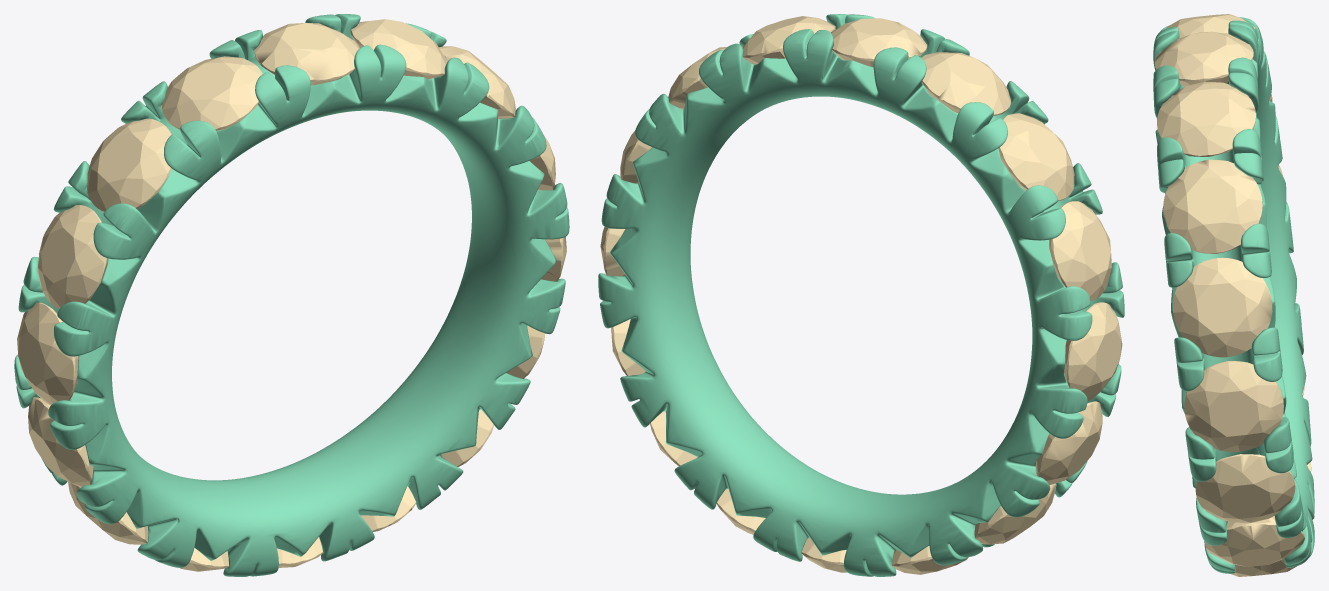
3 renders of one model, left to right at view 1: azimuth 30°, elevation 25°; view 2: azimuth 150°, elevation 25°; view 3: azimuth 270°, elevation 25°, orthographic. The views are drawn at different scales.
Parts seen in each view (by area): view 1: Metal02, Diamond_Round.003, Diamond_Round.002, Diamond_Round.004, Diamond_Round.001, Diamond_Round.005, Diamond_Round, Diamond_Round.006, Diamond_Round.014, Diamond_Round.007, Diamond_Round.015, Diamond_Round.010 (+2 smaller); view 2: Metal02, Diamond_Round.003, Diamond_Round.004, Diamond_Round.002, Diamond_Round.005, Diamond_Round.001, Diamond_Round.006, Diamond_Round, Diamond_Round.007, Diamond_Round.014, Diamond_Round.008, Diamond_Round.015 (+5 smaller); view 3: Metal02, Diamond_Round.013, Diamond_Round.014, Diamond_Round.012, Diamond_Round, Diamond_Round.011, Diamond_Round.001, Diamond_Round.015, Diamond_Round.002, Diamond_Round.010.
Part boxes in pixels (x1=…): Metal02: x1=14, y1=14, x2=569, y2=576; Diamond_Round.003: x1=87, y1=118, x2=171, y2=212; Diamond_Round.002: x1=162, y1=56, x2=262, y2=130; Diamond_Round.004: x1=38, y1=205, x2=107, y2=309; Diamond_Round.001: x1=254, y1=23, x2=359, y2=85; Diamond_Round.005: x1=17, y1=302, x2=78, y2=405; Diamond_Round: x1=350, y1=19, x2=447, y2=79; Diamond_Round.006: x1=28, y1=397, x2=93, y2=487; Diamond_Round.014: x1=439, y1=46, x2=515, y2=118; Diamond_Round.007: x1=68, y1=481, x2=148, y2=544; Diamond_Round.015: x1=441, y1=409, x2=494, y2=466; Diamond_Round.010: x1=360, y1=486, x2=416, y2=531; Metal02: x1=598, y1=14, x2=1124, y2=576; Diamond_Round.003: x1=998, y1=113, x2=1074, y2=200; Diamond_Round.004: x1=1049, y1=201, x2=1111, y2=300; Diamond_Round.002: x1=922, y1=52, x2=1010, y2=115; Diamond_Round.005: x1=1064, y1=302, x2=1122, y2=400; Diamond_Round.001: x1=831, y1=18, x2=927, y2=67; Diamond_Round.006: x1=1036, y1=401, x2=1102, y2=485; Diamond_Round: x1=742, y1=16, x2=835, y2=64; Diamond_Round.007: x1=974, y1=483, x2=1056, y2=544; Diamond_Round.014: x1=668, y1=47, x2=742, y2=109; Diamond_Round.008: x1=892, y1=529, x2=974, y2=574; Diamond_Round.015: x1=650, y1=411, x2=697, y2=466; Metal02: x1=1153, y1=17, x2=1314, y2=573; Diamond_Round.013: x1=1173, y1=257, x2=1272, y2=357; Diamond_Round.014: x1=1163, y1=159, x2=1262, y2=253; Diamond_Round.012: x1=1184, y1=361, x2=1283, y2=451; Diamond_Round: x1=1157, y1=81, x2=1255, y2=156; Diamond_Round.011: x1=1195, y1=454, x2=1295, y2=522; Diamond_Round.001: x1=1154, y1=31, x2=1253, y2=86; Diamond_Round.015: x1=1205, y1=516, x2=1304, y2=566; Diamond_Round.002: x1=1166, y1=14, x2=1255, y2=38; Diamond_Round.010: x1=1231, y1=552, x2=1311, y2=576.
Bounding box in the file's own units: 22.5 × 22.58 × 6.48.
